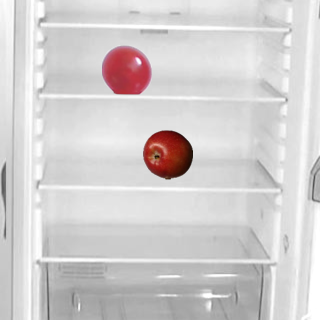Apple Braeburn: (142, 129, 192, 179)
Redcurrant: (101, 44, 151, 94)
